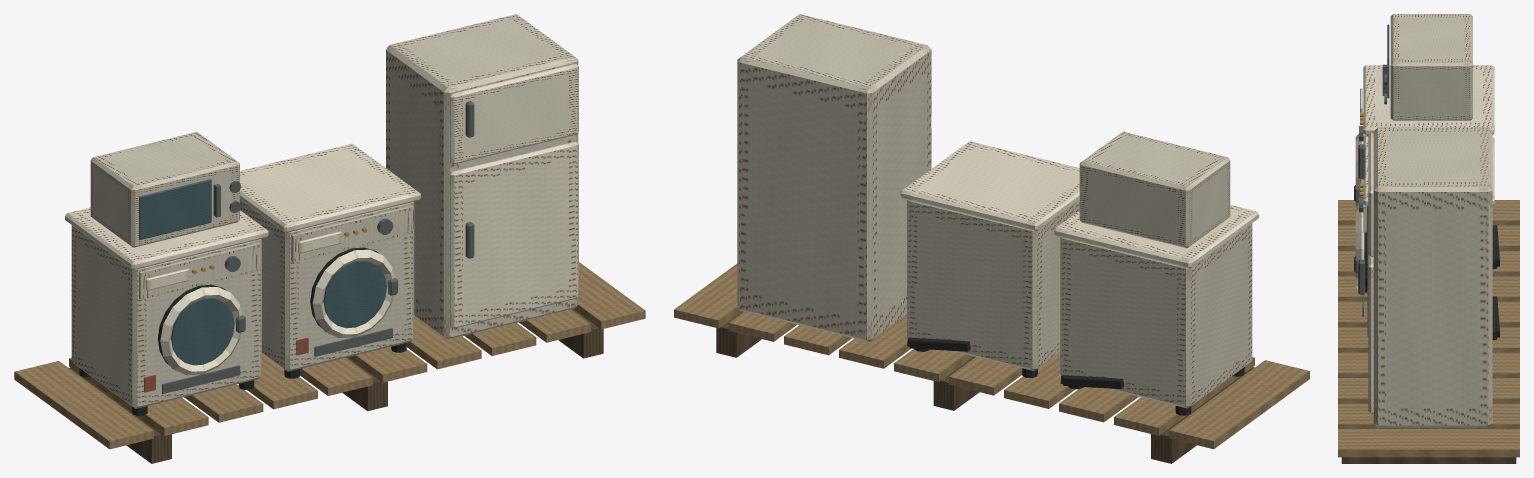
File: ApplianceRow.fbx
The picture shows the model from 3 angles, left to right: view 1: azimuth 30°, elevation 25°; view 2: azimuth 150°, elevation 25°; view 3: azimuth 270°, elevation 25°; orthographic projection. The views are drawn at different scales.
Parts seen in each view (by area): view 1: ApplianceRow; view 2: ApplianceRow; view 3: ApplianceRow.
Boxes of the visible parts, x1,y1,x2,y2 form: ApplianceRow: [14, 14, 645, 463]; ApplianceRow: [674, 14, 1309, 463]; ApplianceRow: [1338, 14, 1519, 463].
Size of the model in its own units: 422 by 215 by 130.
